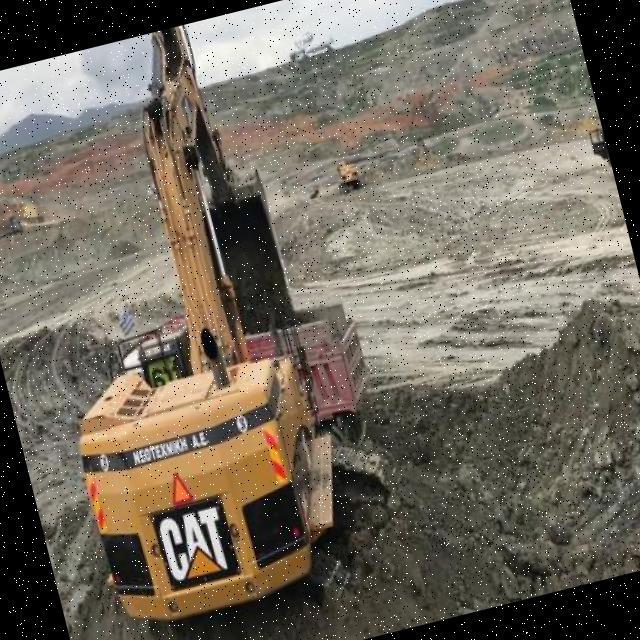Dump Truck: (292, 298, 380, 446), (17, 196, 44, 228)
Excavator: (0, 0, 428, 640), (329, 154, 362, 195)
